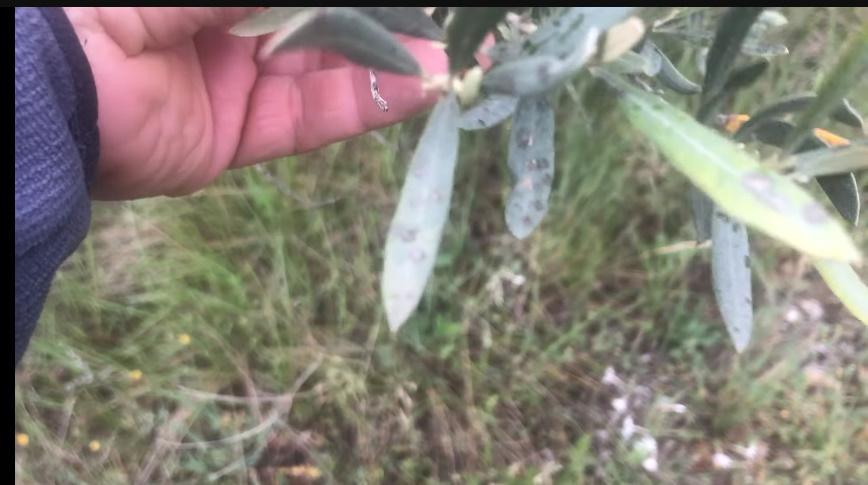OlivePeacockSpot: (610, 74, 854, 264), (379, 96, 459, 332), (261, 11, 422, 80), (502, 104, 558, 242), (486, 58, 572, 94)
